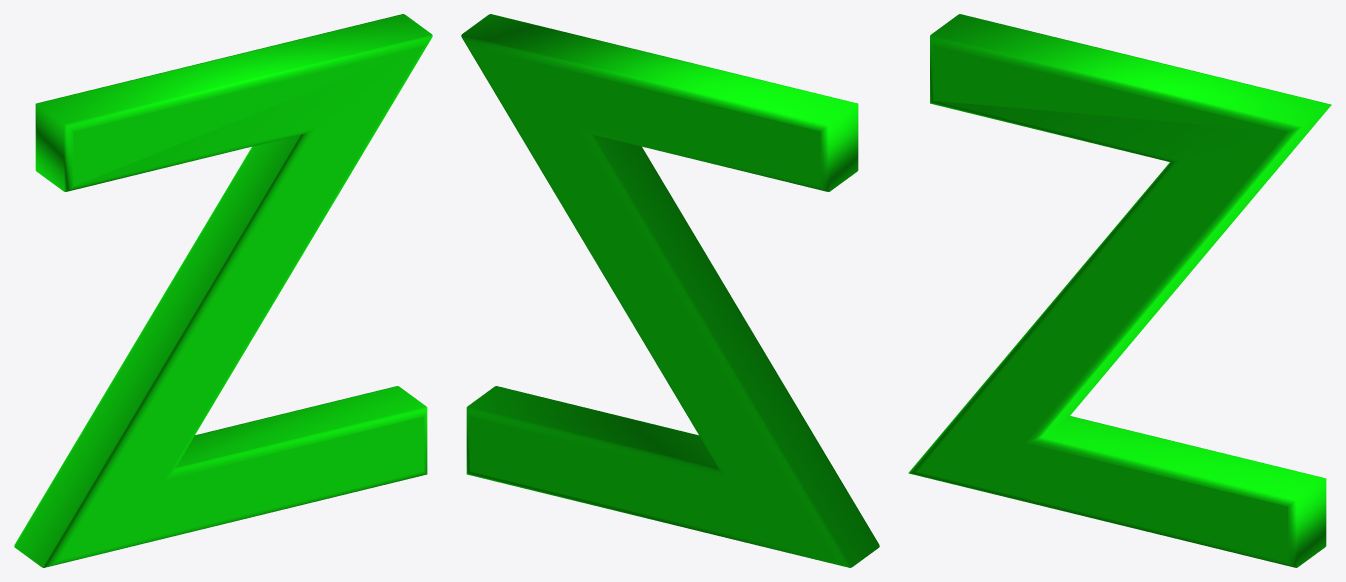
3 renders of one model, left to right at view 1: azimuth 30°, elevation 25°; view 2: azimuth 150°, elevation 25°; view 3: azimuth 330°, elevation 25°, orthographic.
Visible parts, largest first — view 1: ZZ; view 2: ZZ; view 3: ZZ.
Boxes of the visible parts, <box> form: ZZ: <box>14,14,432,567</box>; ZZ: <box>461,14,879,567</box>; ZZ: <box>908,14,1331,567</box>.
Size of the model in its own units: 0.4661 by 0.5 by 0.0713.
